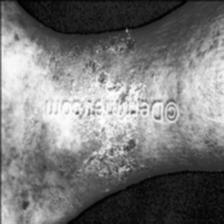Non-Cancerous Skin Condition: (78, 43, 148, 174)
